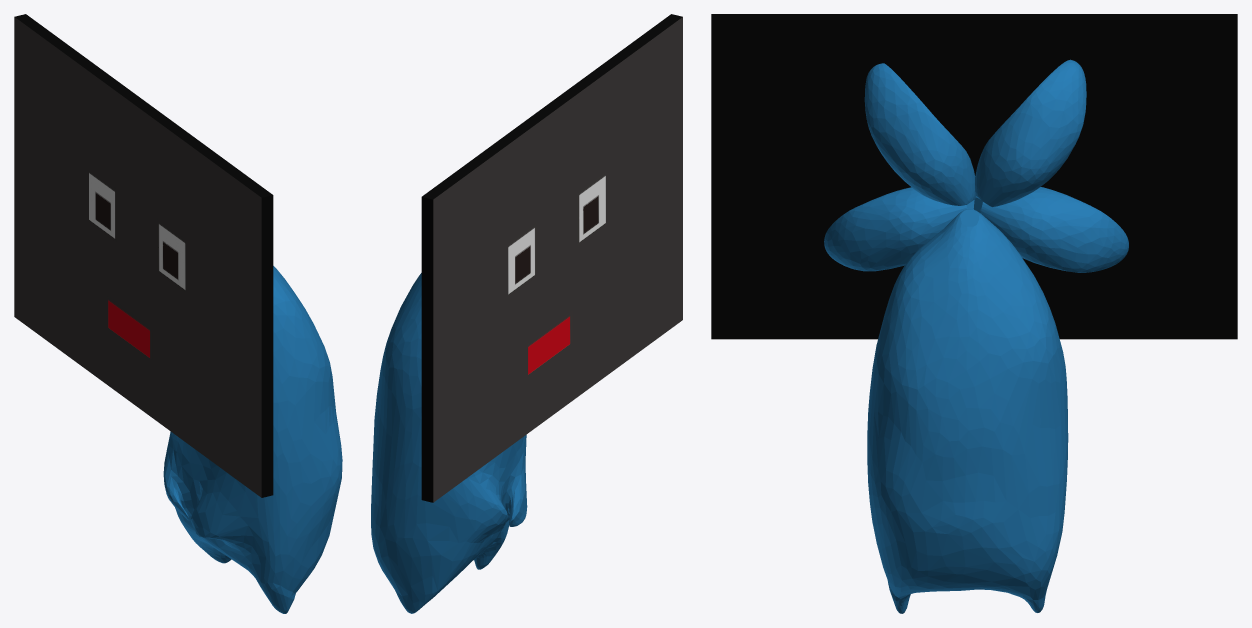
The model's file is PCyamabuki2.glb.
3 renders of one model, left to right at view 1: azimuth 30°, elevation 25°; view 2: azimuth 150°, elevation 25°; view 3: azimuth 270°, elevation 25°, orthographic. The views are drawn at different scales.
Parts seen in each view (by area): view 1: 立方体, 球.002; view 2: 立方体, 球.002; view 3: 立方体, 球.002, 円柱.020.
Boxes of the visible parts, x1,y1,x2,y2 form: 立方体: [14, 14, 273, 497]; 球.002: [163, 266, 342, 613]; 立方体: [421, 14, 682, 502]; 球.002: [371, 273, 527, 613]; 立方体: [711, 14, 1237, 339]; 球.002: [867, 209, 1068, 613]; 円柱.020: [824, 59, 1128, 272].
Bounding box in the file's own units: 0.9306 × 2.54 × 2.24.
3 materials, 1 textured.
